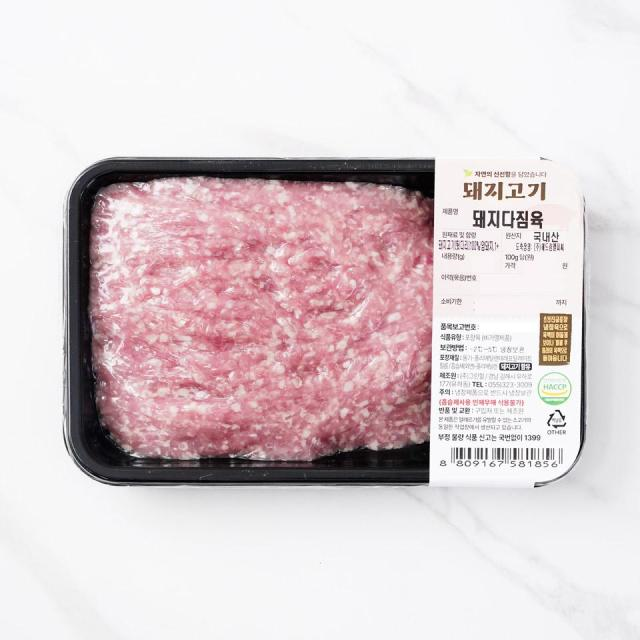pork: (52, 136, 588, 501)
